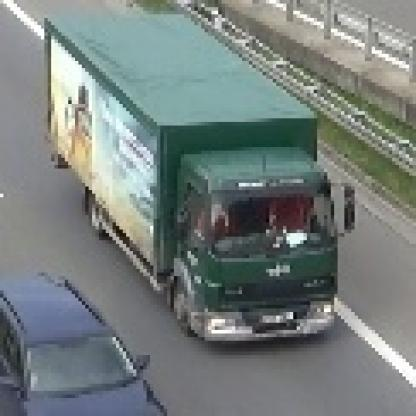truck: (42, 5, 352, 342)
